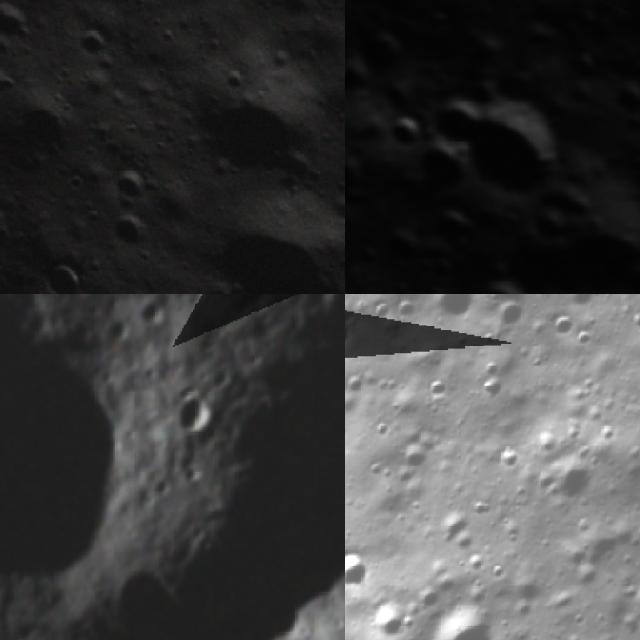crater: (178, 55, 327, 206), (445, 78, 590, 225), (207, 201, 339, 294), (483, 202, 612, 294), (1, 76, 98, 174), (557, 196, 640, 294), (345, 6, 421, 90), (530, 440, 609, 519), (406, 128, 482, 206), (416, 82, 493, 158), (412, 584, 516, 640), (420, 192, 486, 260), (535, 170, 602, 236), (101, 204, 163, 266), (358, 584, 424, 640), (372, 212, 432, 271), (460, 252, 544, 294), (389, 425, 447, 484), (30, 246, 101, 294), (62, 15, 120, 72), (452, 64, 510, 120), (378, 102, 434, 158), (170, 387, 220, 448), (0, 0, 45, 62), (108, 157, 160, 210), (418, 294, 492, 331), (558, 40, 608, 91), (345, 538, 383, 600), (415, 241, 462, 290), (486, 294, 537, 339), (603, 67, 640, 123), (345, 34, 367, 120), (126, 294, 173, 334), (542, 304, 585, 347), (346, 230, 388, 274), (555, 294, 602, 320), (345, 302, 363, 368)
